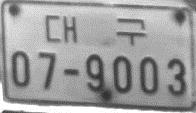-: (59, 63, 80, 80)
0: (138, 55, 158, 95), (112, 55, 133, 93), (11, 49, 31, 88)
3: (166, 58, 187, 96)
7: (38, 51, 56, 90)
9: (85, 54, 104, 92)
대구_D: (44, 13, 147, 46)
